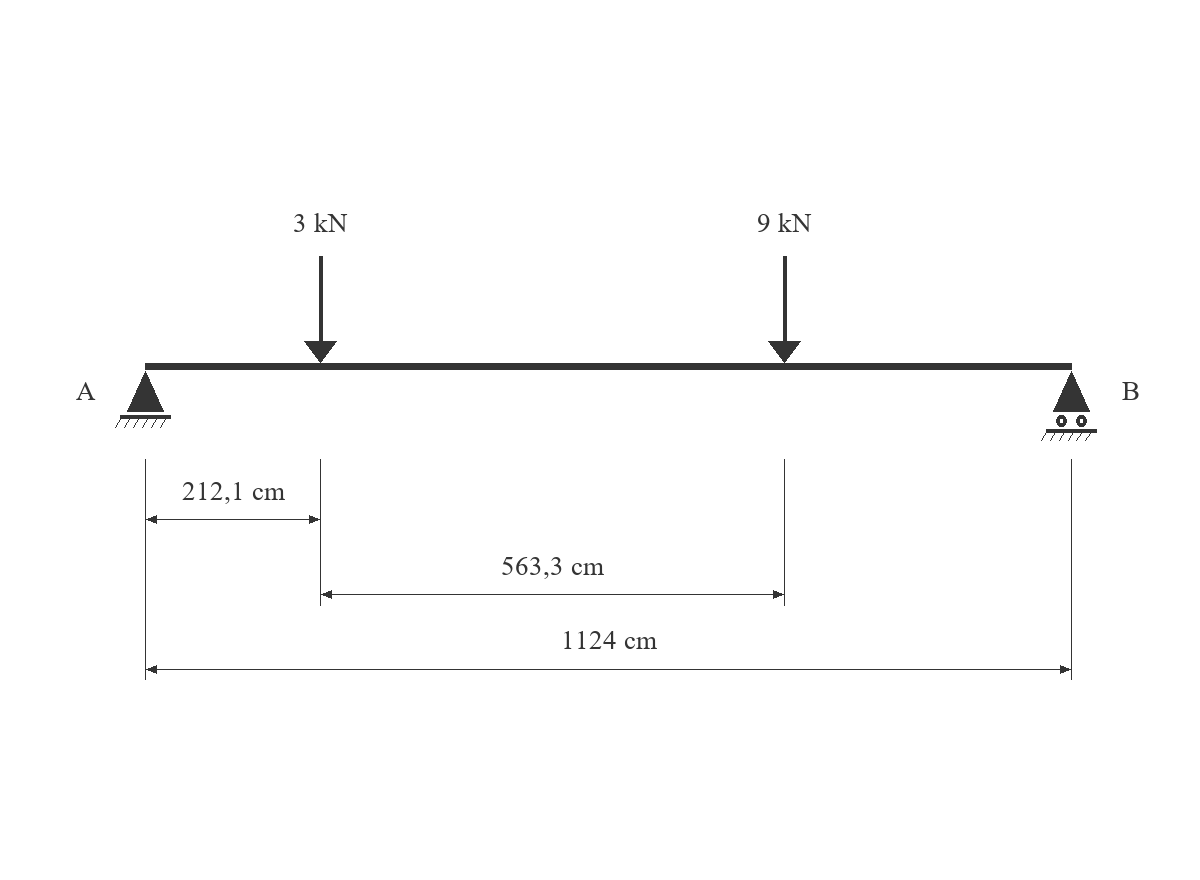pin_support: (115, 371, 171, 428)
point_load: (304, 256, 337, 363), (768, 256, 801, 363)
roller_support: (1041, 371, 1097, 441)
